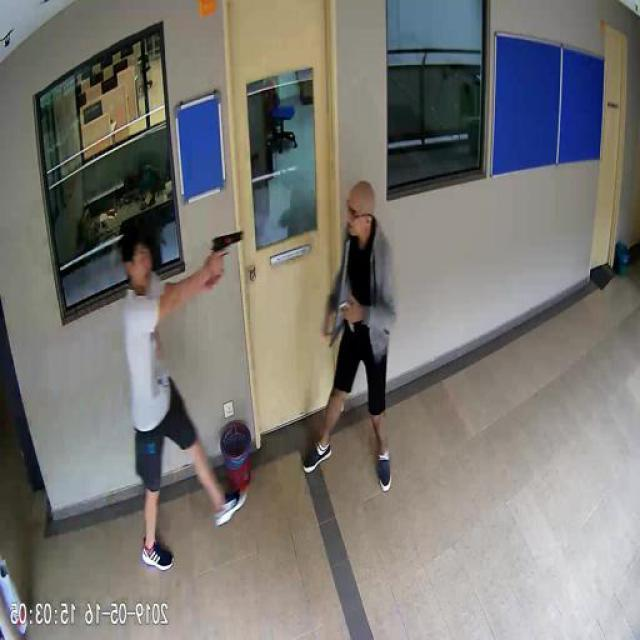Gun: (214, 228, 245, 278)
